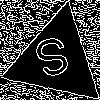S: (31, 34, 77, 89)
